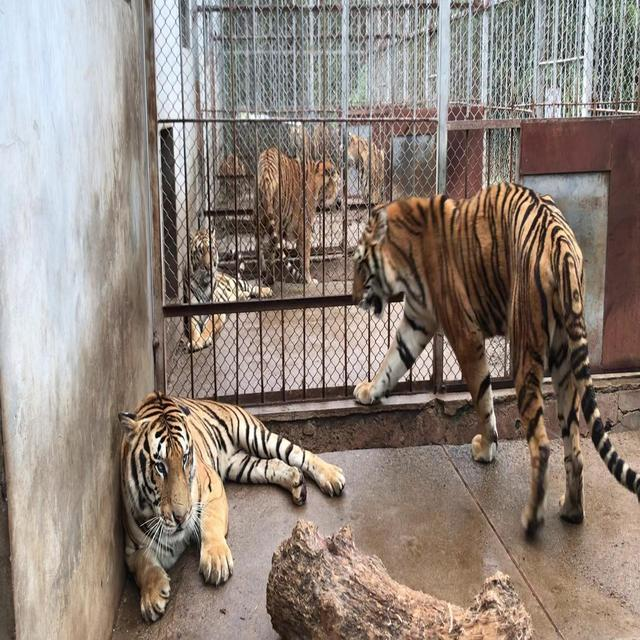tiger: (350, 179, 639, 541), (116, 389, 346, 623), (254, 145, 342, 286), (179, 226, 273, 351), (345, 132, 388, 205)
